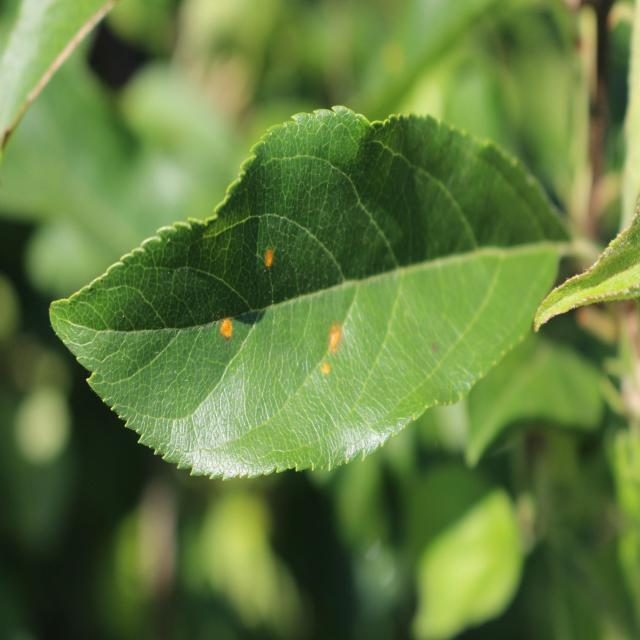Rust: (321, 324, 358, 360), (212, 311, 236, 354), (255, 244, 280, 276), (315, 355, 342, 383)
